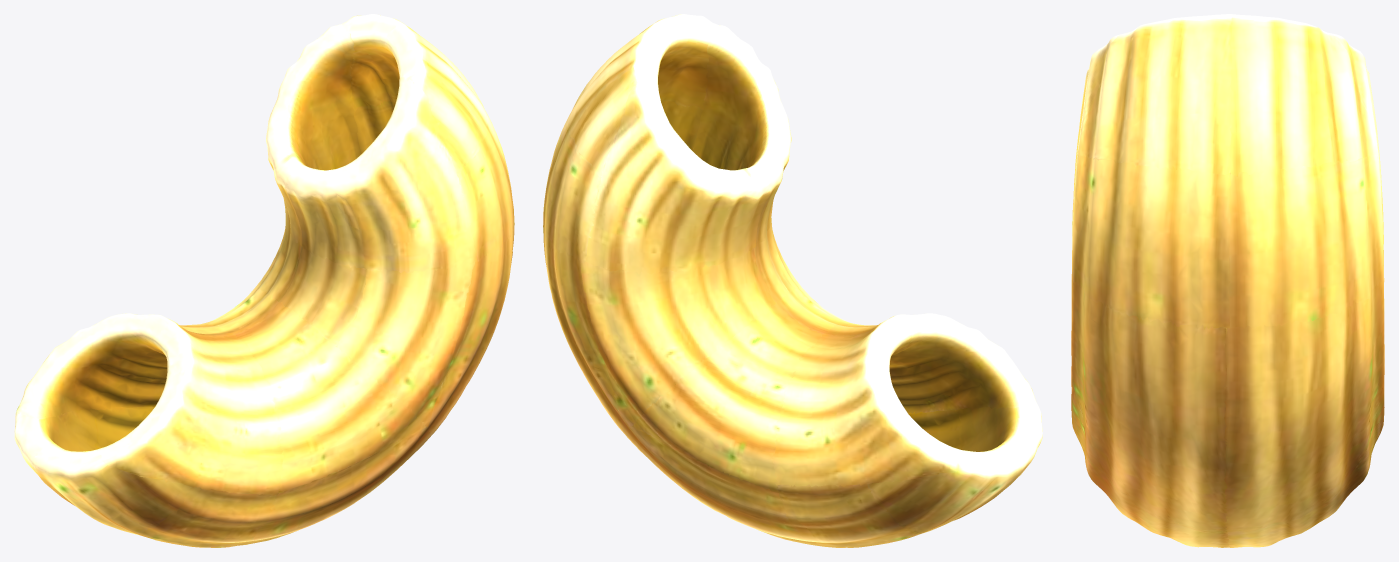
3 renders of one model, left to right at view 1: azimuth 30°, elevation 25°; view 2: azimuth 150°, elevation 25°; view 3: azimuth 270°, elevation 25°, orthographic. The views are drawn at different scales.
Parts seen in each view (by area): view 1: mesh_node; view 2: mesh_node; view 3: mesh_node.
Part boxes in pixels (x1,y1,x2,y2): mesh_node: [14, 14, 514, 547]; mesh_node: [543, 14, 1042, 547]; mesh_node: [1071, 14, 1384, 547].
Size of the model in its own units: 1.9 by 1.83 by 0.8643.
Materials: 1 (1 with a texture image).
